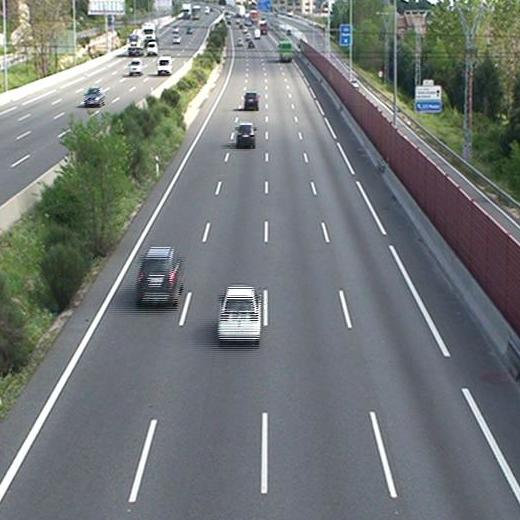bus: (279, 39, 295, 64)
car: (134, 247, 183, 310), (218, 288, 262, 342), (235, 123, 257, 148), (244, 91, 260, 113)
